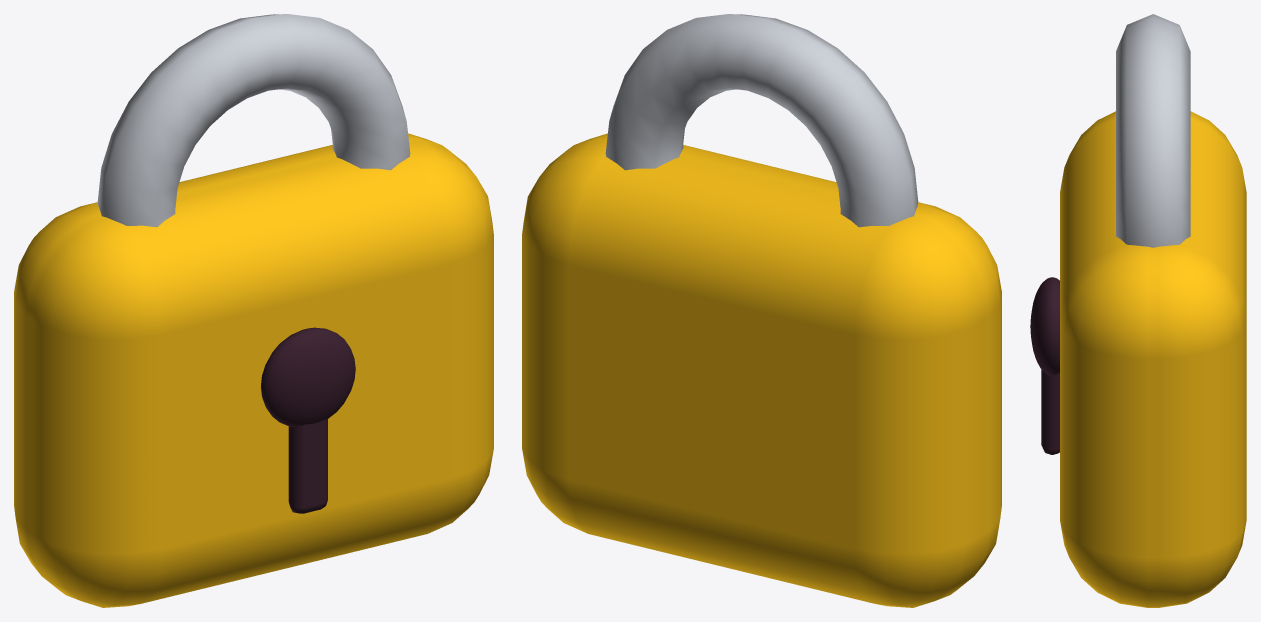
File: overlay_lock.glb
3 views of the same model, side by side, from view 1: azimuth 30°, elevation 25°; view 2: azimuth 150°, elevation 25°; view 3: azimuth 270°, elevation 25° (orthographic). The views are drawn at different scales.
Parts seen in each view (by area): view 1: LockBody, LockShackle, KeyholeTop, KeyholeSlot; view 2: LockBody, LockShackle; view 3: LockBody, LockShackle, KeyholeTop, KeyholeSlot.
Boxes of the visible parts, box(x1,y1,x2,y2) form: LockBody: box(14, 133, 493, 607); LockShackle: box(97, 14, 410, 227); KeyholeTop: box(261, 327, 355, 427); KeyholeSlot: box(288, 419, 327, 513); LockBody: box(522, 133, 1001, 607); LockShackle: box(605, 14, 918, 227); LockBody: box(1060, 111, 1246, 607); LockShackle: box(1116, 14, 1190, 247); KeyholeTop: box(1030, 277, 1059, 375); KeyholeSlot: box(1041, 369, 1059, 454).
Size of the model in its own units: 0.44 by 0.509 by 0.197.
